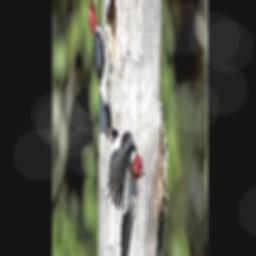Woodpecker: (108, 132, 145, 256), (89, 0, 112, 128)
